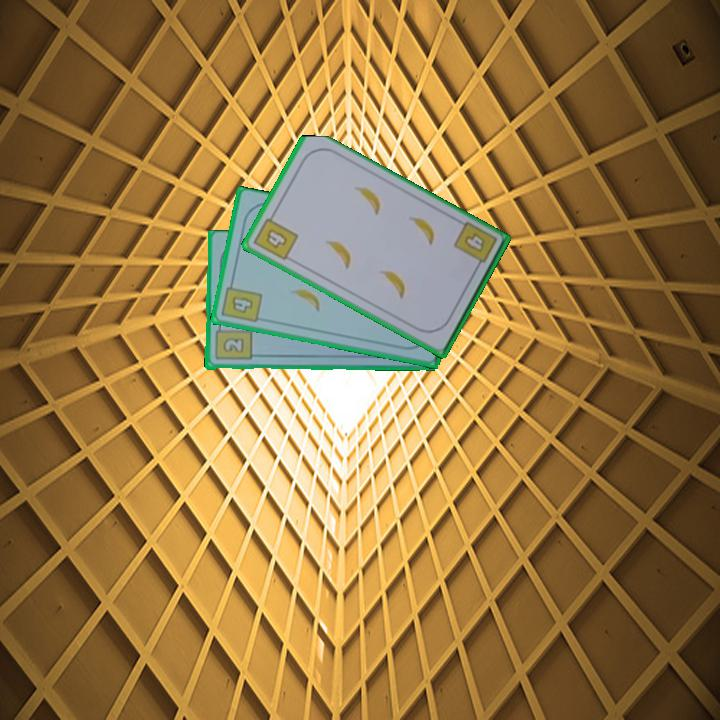2b: (212, 321, 253, 363)
4b: (250, 209, 301, 264), (450, 218, 500, 273), (218, 277, 265, 326)
